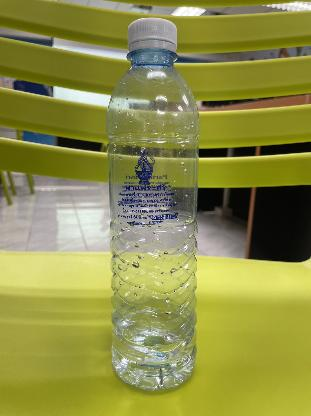Plastic Bottle: (111, 15, 199, 392)
